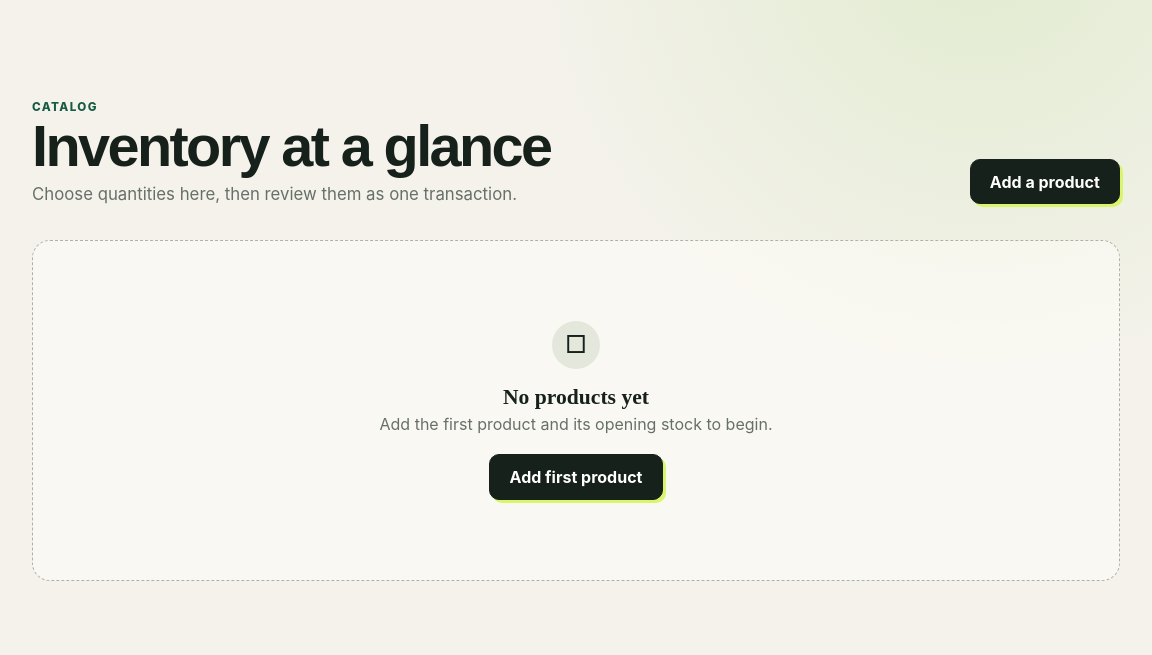
Test: App › creates a product and returns to the catalog
Expected: the heading "No products yet" is shown, [503,385,649,409]
Click the button "Add a product" at (1045, 182), box [970,159,1120,204]
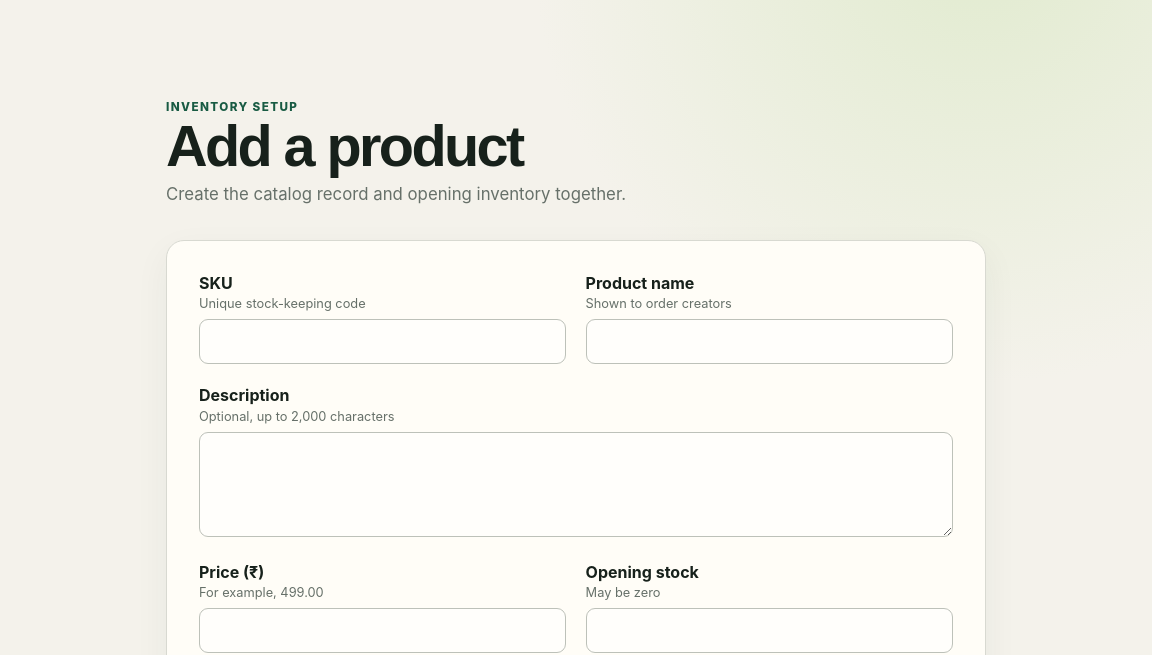
Type "TEA-1" into the field labelled "SKU Unique stock-keeping code" at (383, 341), box [199,319,566,364]
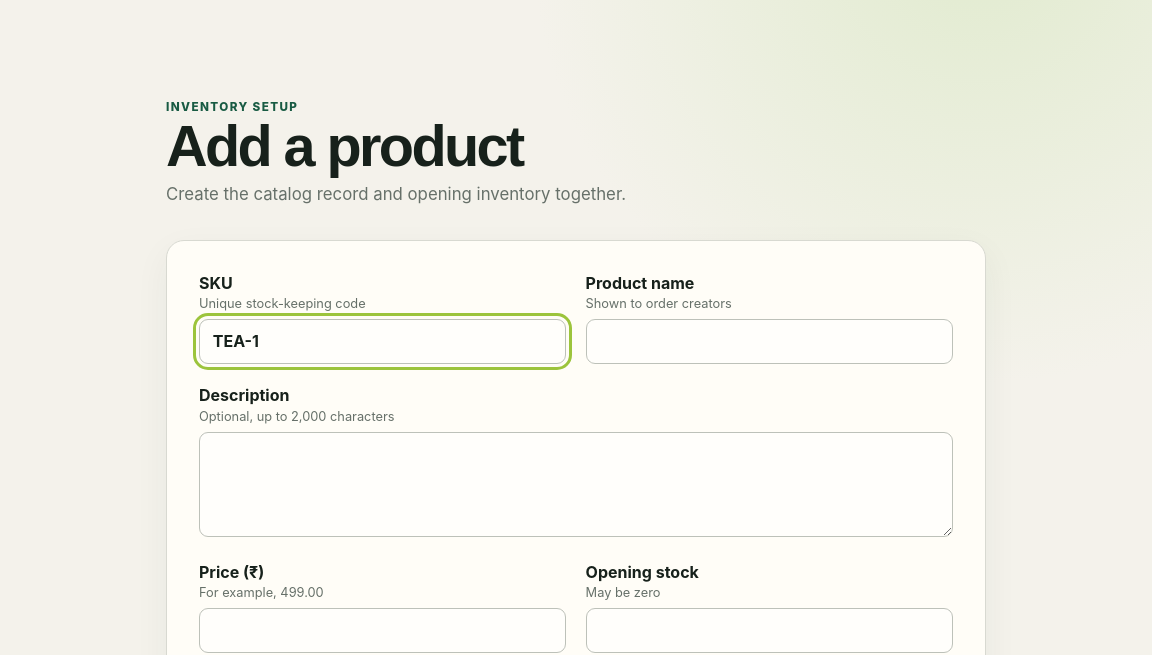
Type "Assam tea" into the field labelled "Product name Shown to order creators" at (769, 341), box [586,319,953,364]
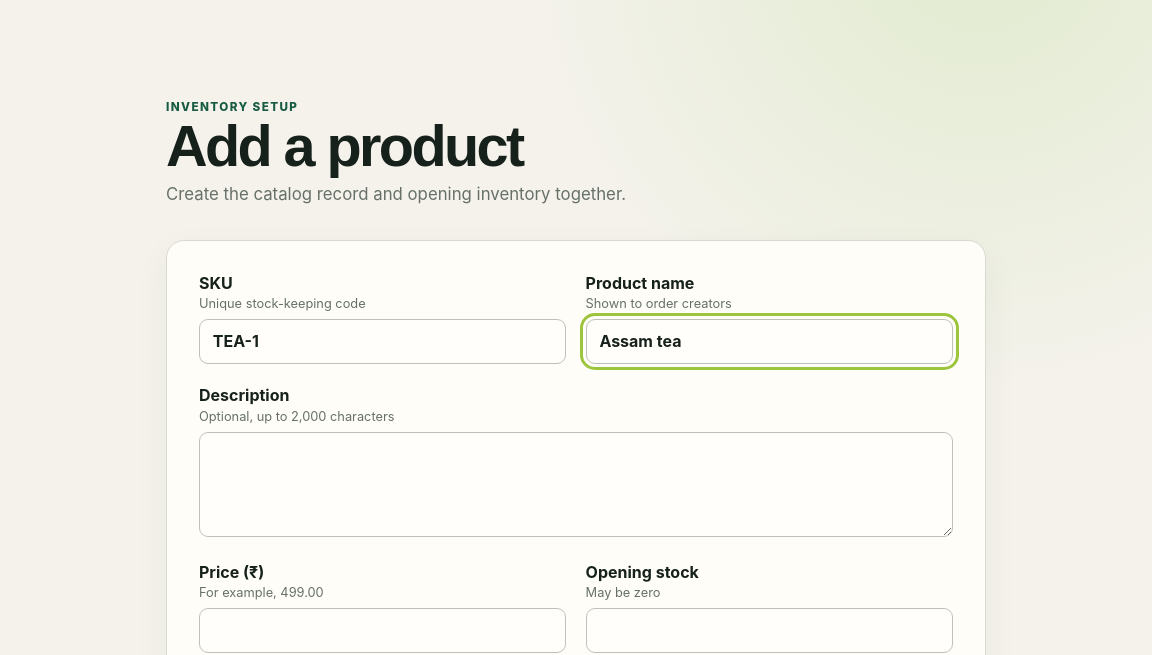
Type "349" into the number field labelled "Price (₹) For example, 499.00" at (383, 631), box [199,608,566,653]
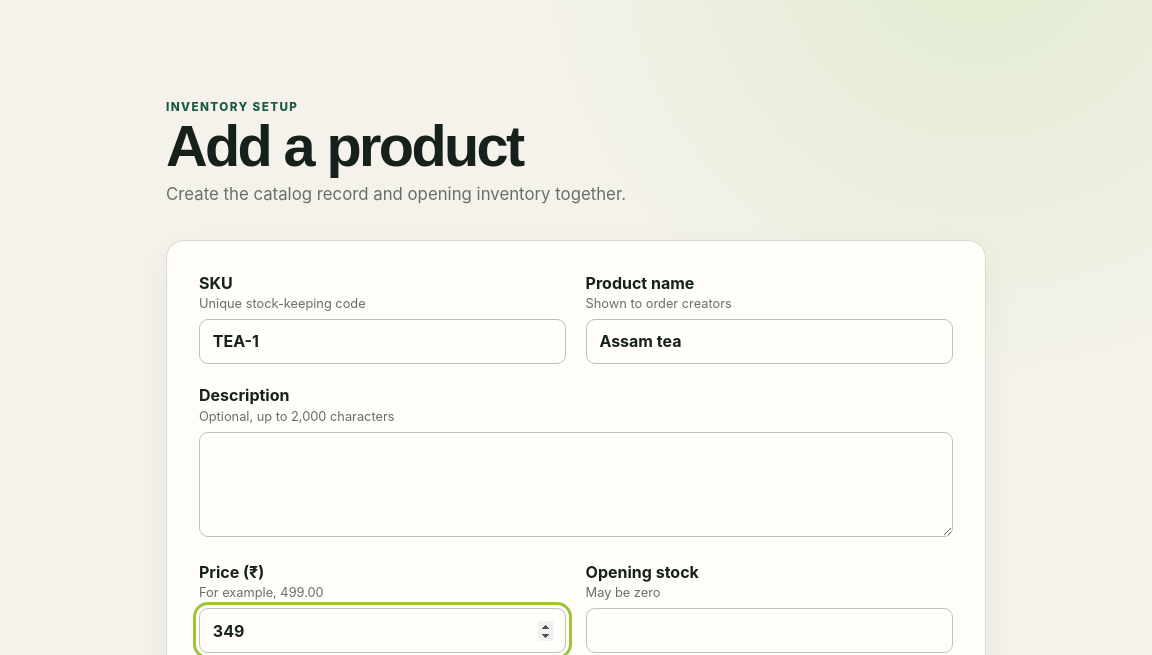
Type "4" into the number field labelled "Opening stock May be zero" at (769, 631), box [586,608,953,653]
(page scrolled)
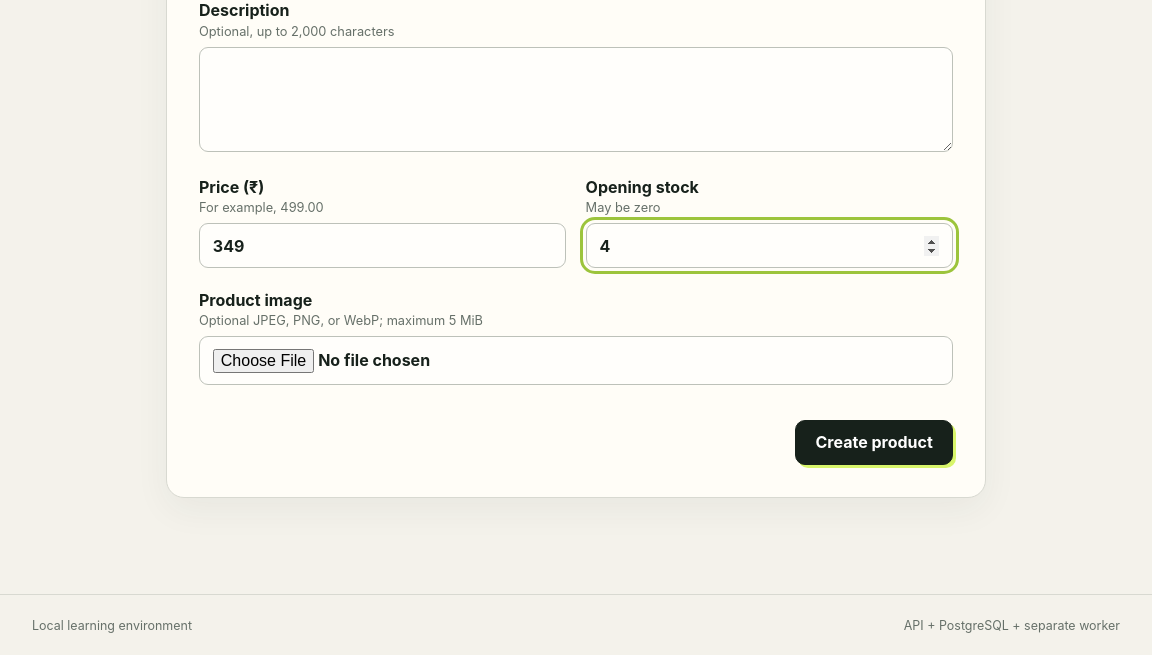
Click the button "Create product" at (874, 442), box [795,420,953,465]
(page scrolled)
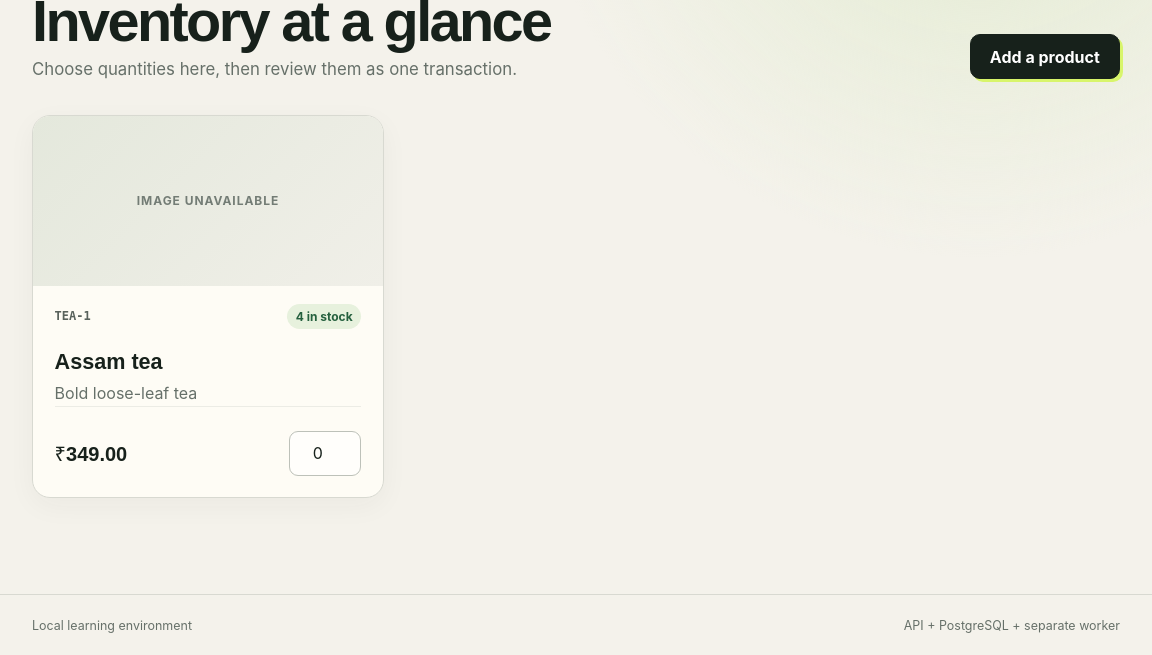
Result: the heading "Assam tea" is shown at [55,348,163,374]
